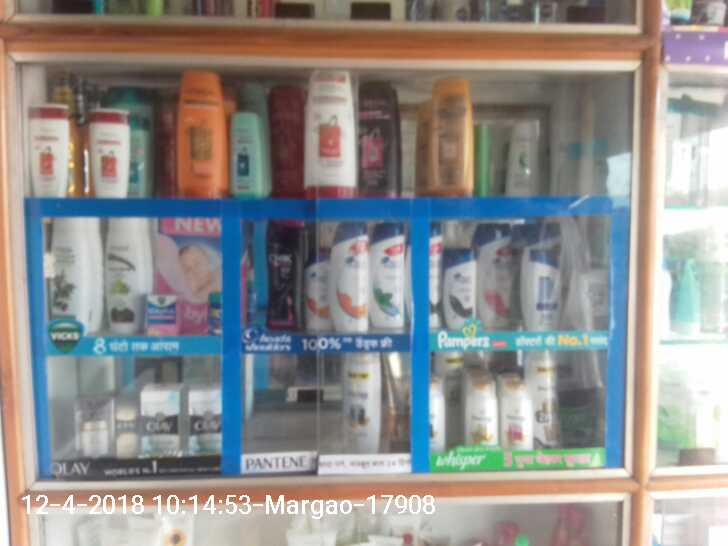vicks: (144, 291, 181, 332), (207, 293, 225, 334)
